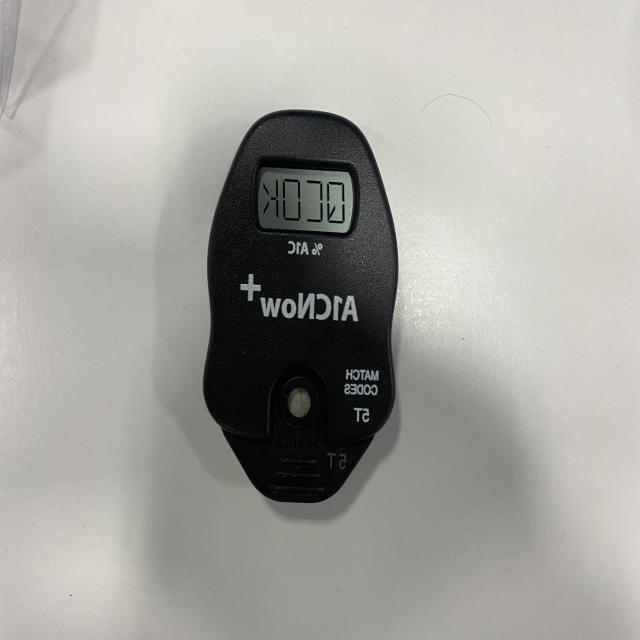hba1c: (202, 110, 400, 508)
